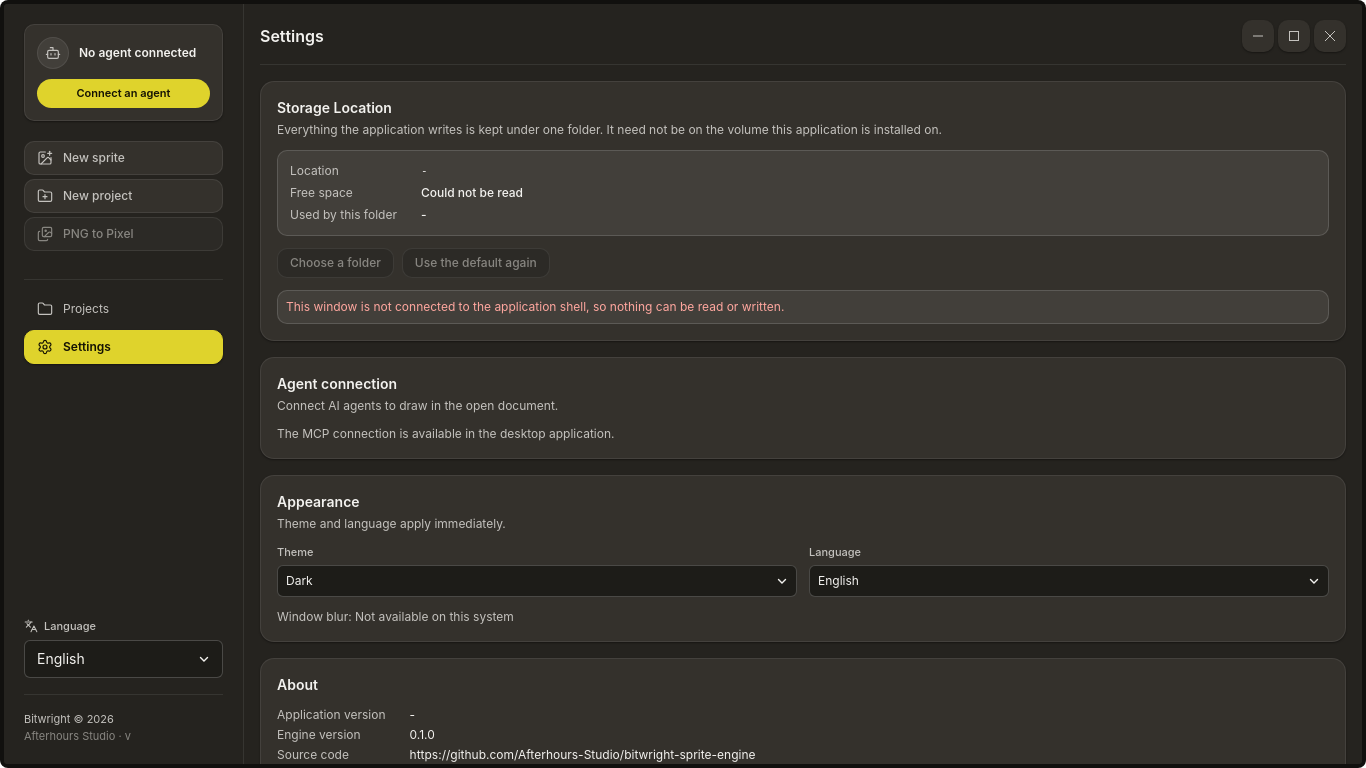
it: routing › shows settings, and goes home from its sidebar
The image size is (1366, 768).
Check: the heading "Settings" is shown, box [260,24,324,48]
Click the button "Projects" at x=124, y=308, box [24,292,223,326]
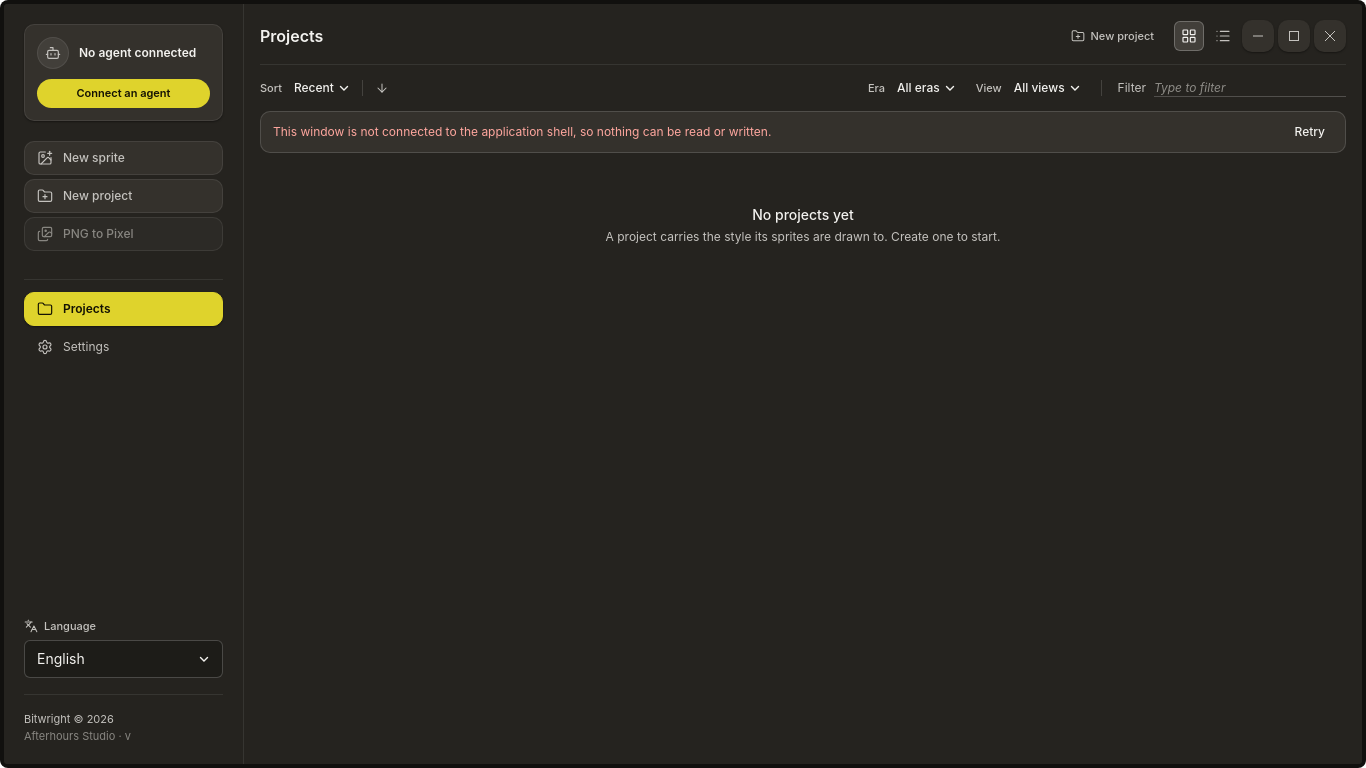
Check: the heading "Projects" is shown, box [260,24,323,48]
